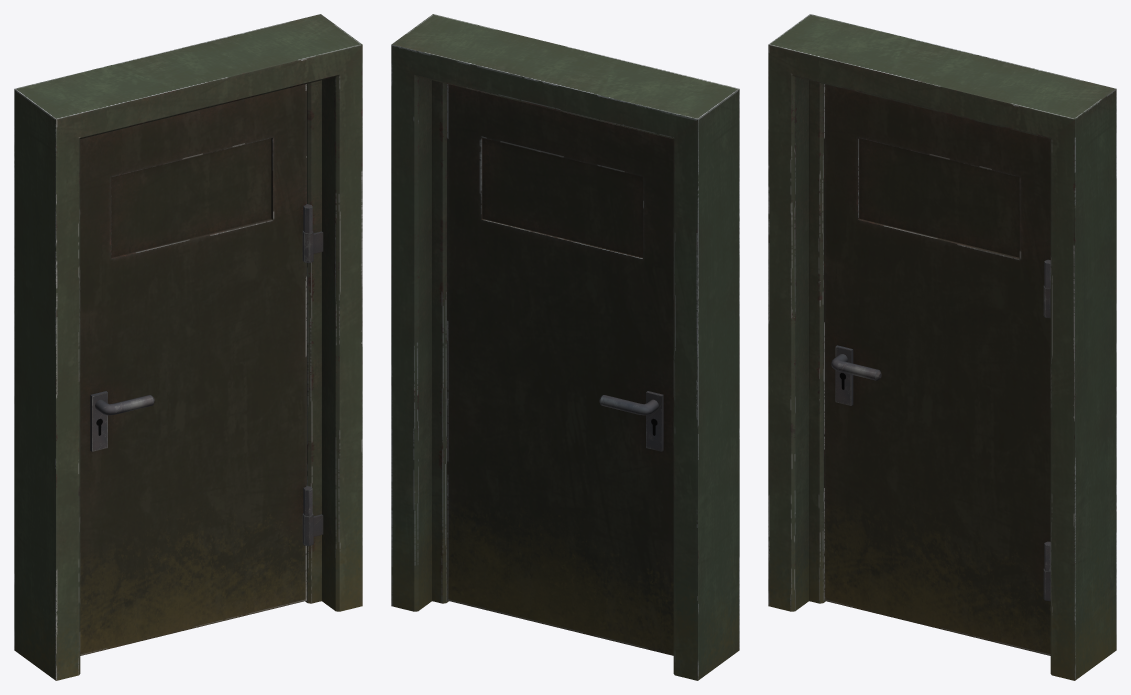
File: door_scene.gltf
3 renders of one model, left to right at view 1: azimuth 30°, elevation 25°; view 2: azimuth 150°, elevation 25°; view 3: azimuth 330°, elevation 25°, orthographic.
Parts seen in each view (by area): view 1: door, frame, handle; view 2: door, frame, handle; view 3: door, frame, handle.
Part boxes in pixels (x1,y1,x2,y2): door: [80, 84, 312, 655]; frame: [14, 14, 362, 680]; handle: [95, 395, 154, 415]; door: [447, 84, 673, 655]; frame: [391, 14, 739, 680]; handle: [599, 395, 658, 415]; door: [824, 84, 1050, 655]; frame: [768, 14, 1116, 680]; handle: [831, 354, 881, 380].
Bounding box in the file's own units: 127 × 222 × 30.
Materials: 1 (1 with a texture image).
